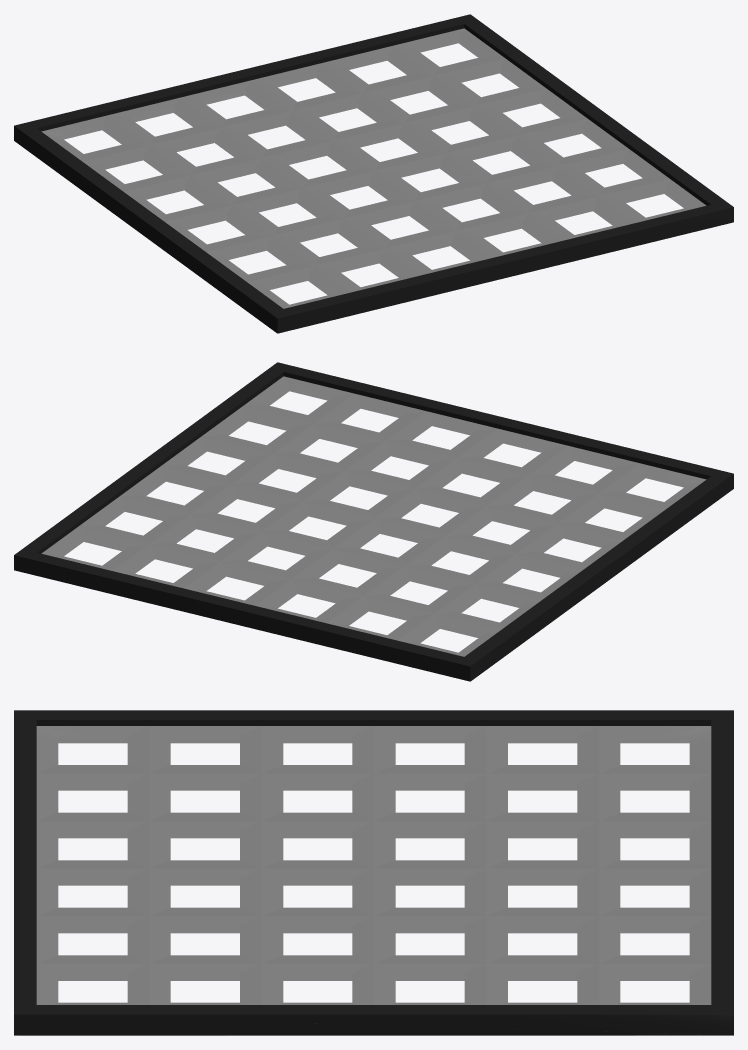
File: Floor.dae
3 renders of one model, top to bottom at view 1: azimuth 30°, elevation 25°; view 2: azimuth 150°, elevation 25°; view 3: azimuth 270°, elevation 25°, orthographic. The views are drawn at different scales.
Parts seen in each view (by area): view 1: Floor; view 2: Floor; view 3: Floor.
Part boxes in pixels (<box>): Floor: <box>14,14,733,333</box>; Floor: <box>14,362,733,681</box>; Floor: <box>14,710,733,1035</box>.
Size of what is drawn, in the model's own units: 1.45 by 1.45 by 0.0462.
